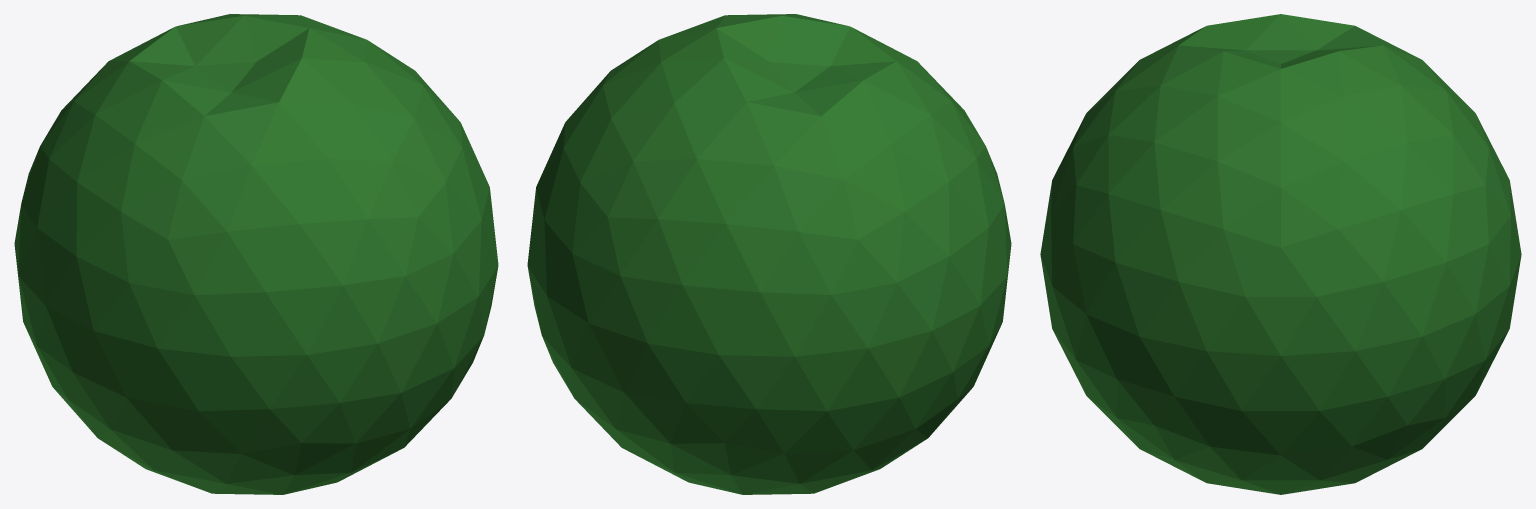
Rendered from world.fbx.
The picture shows the model from 3 angles, left to right: view 1: azimuth 30°, elevation 25°; view 2: azimuth 150°, elevation 25°; view 3: azimuth 270°, elevation 25°; orthographic projection.
Parts seen in each view (by area): view 1: Icosfera; view 2: Icosfera; view 3: Icosfera.
Part boxes in pixels (x1,y1,x2,y2): Icosfera: [14, 14, 498, 494]; Icosfera: [527, 14, 1011, 494]; Icosfera: [1040, 14, 1521, 494].
Size of the model in its own units: 15.77 by 15.52 by 15.77.
